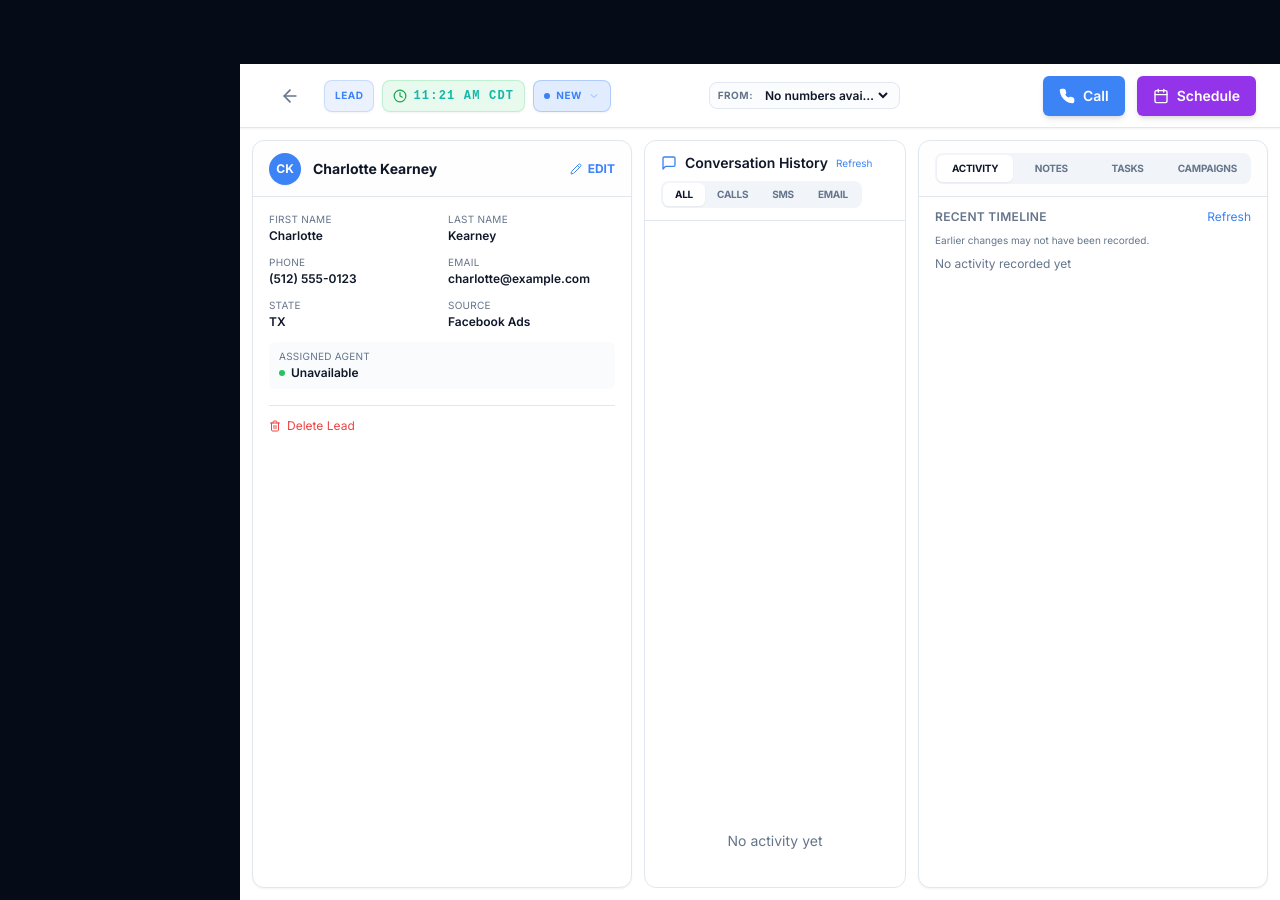
Scenario: deep link — the gate, the fail-open posture and the settings round trip › a settings-read FAILURE falls back to the defaults and still enforces them
Expected: the button "Call" is shown, x1=1043 y1=76 x2=1125 y2=116
Click the button "EDIT" at (592, 168), box x1=570 y1=160 x2=615 y2=176
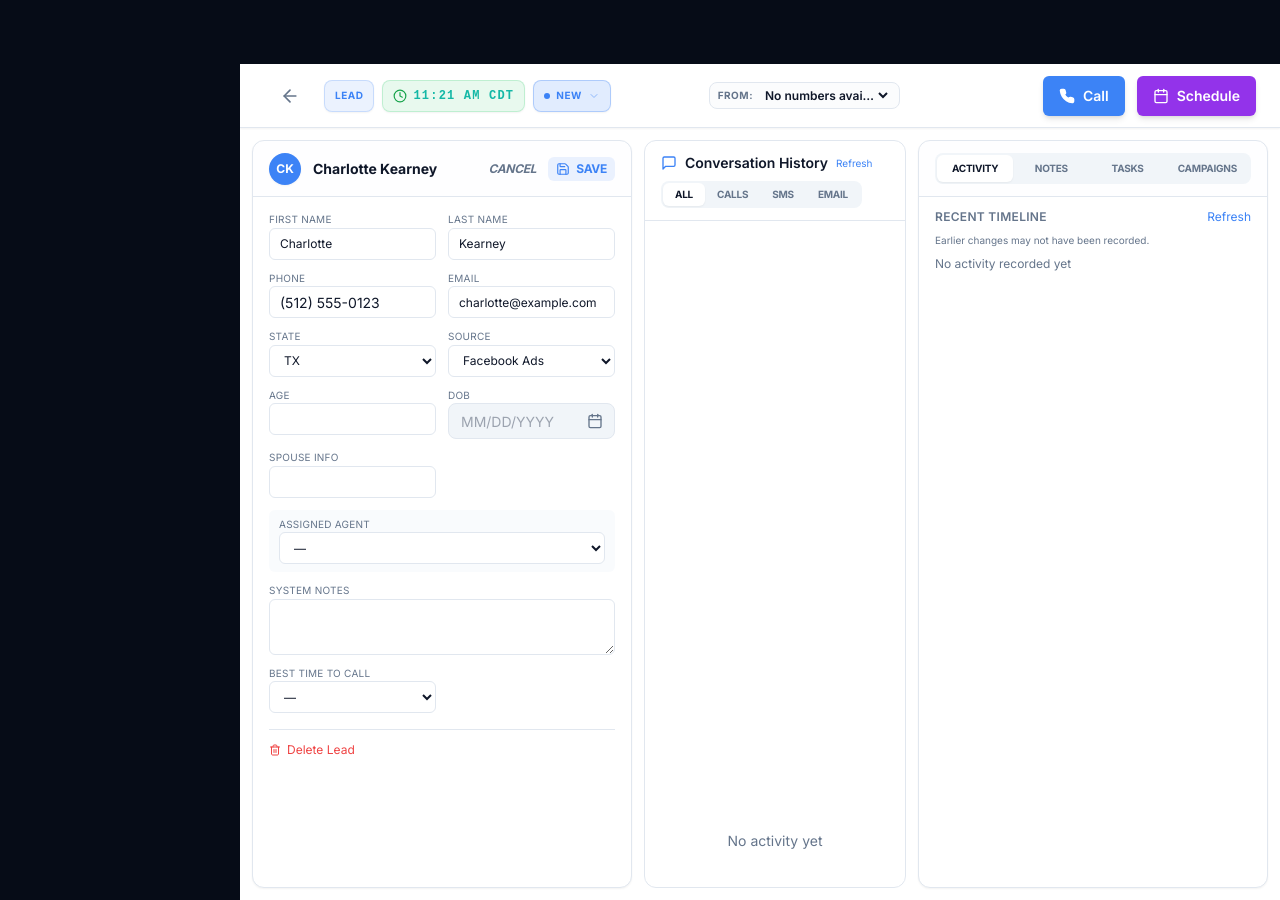
Replace the text in the field showing "(512) 555-0123" with "5125559999" at (352, 302), box x1=269 y1=286 x2=436 y2=318
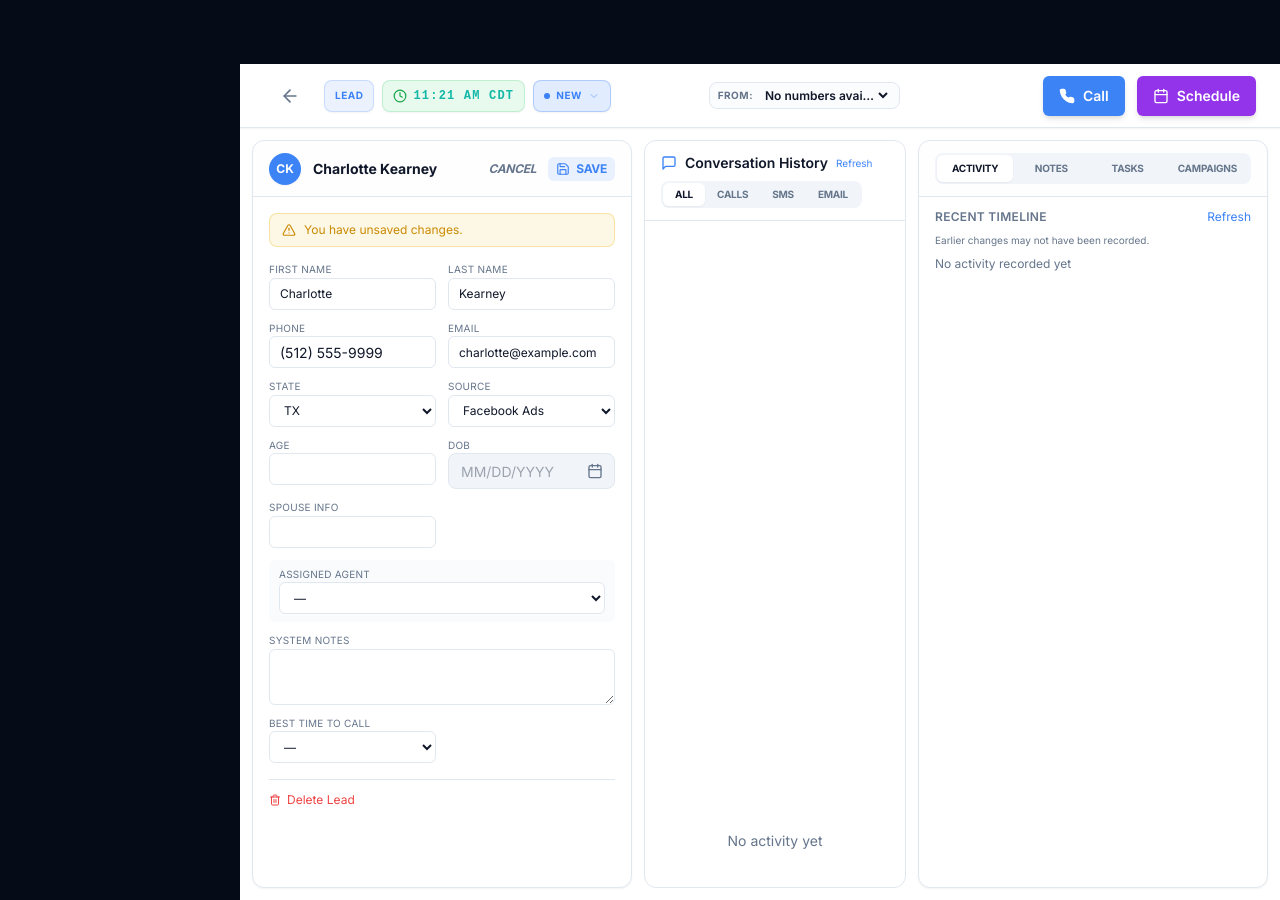
Click the button "SAVE" at (582, 168), box x1=548 y1=156 x2=615 y2=180
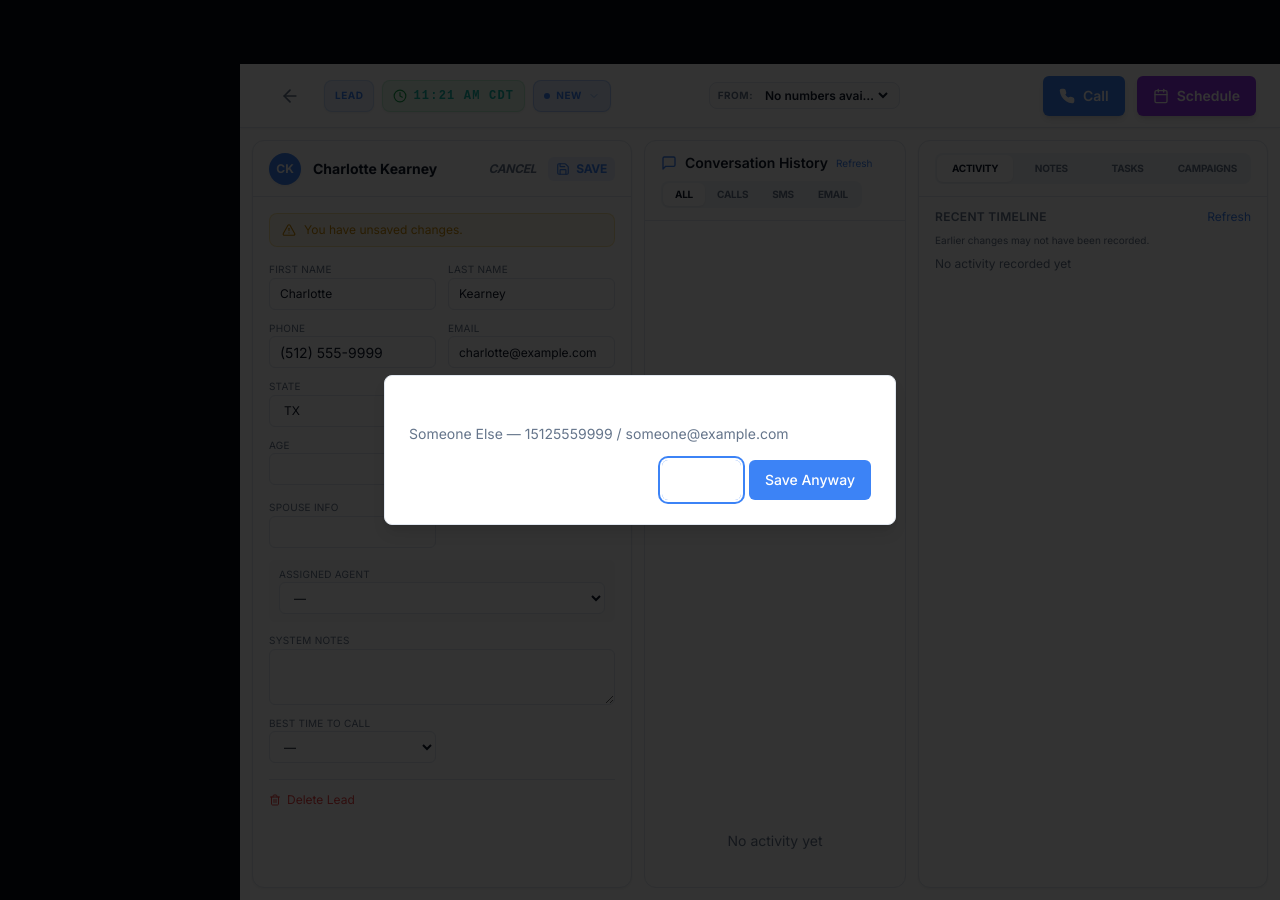
Expected: the dialog is shown, x1=384 y1=375 x2=896 y2=525
